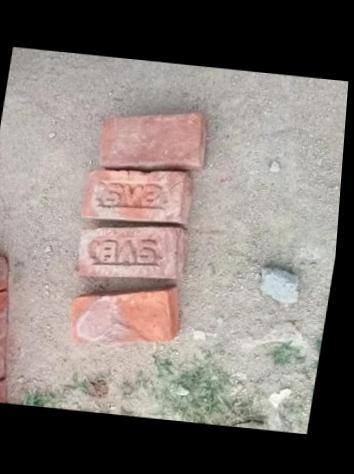brick: (64, 281, 183, 354), (92, 103, 208, 175), (74, 218, 186, 282), (80, 166, 190, 224)
